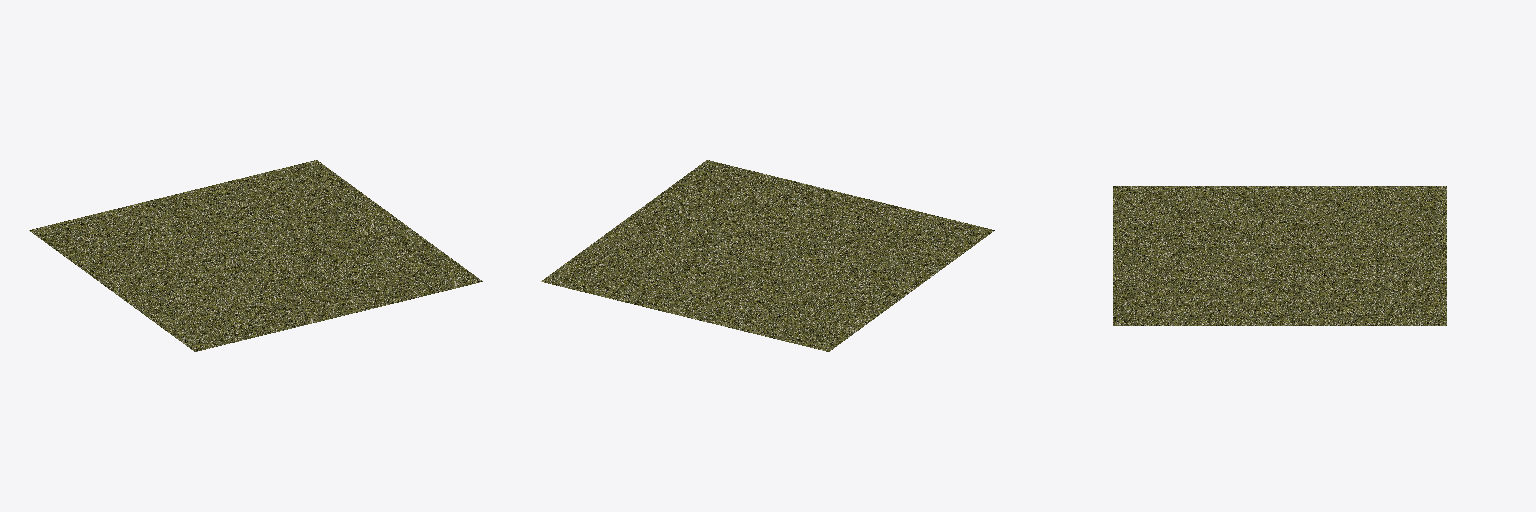
3 renders of one model, left to right at view 1: azimuth 30°, elevation 25°; view 2: azimuth 150°, elevation 25°; view 3: azimuth 270°, elevation 25°, orthographic.
Parts seen in each view (by area): view 1: Plane; view 2: Plane; view 3: Plane.
Part boxes in pixels (bbox=[...]): Plane: bbox=[29, 160, 482, 351]; Plane: bbox=[541, 160, 994, 351]; Plane: bbox=[1113, 186, 1446, 325].
Size of the model in its own units: 32 by 0 by 32.
1 materials, 1 textured.